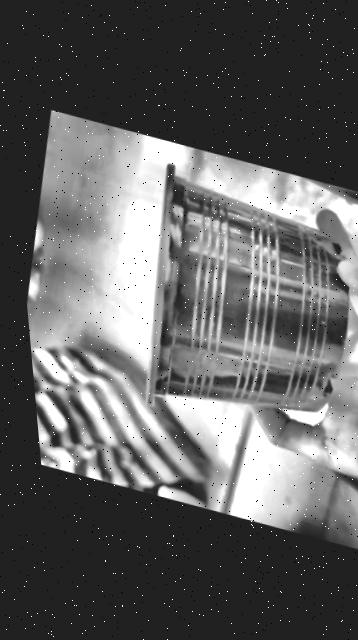pot: (146, 165, 348, 411)
